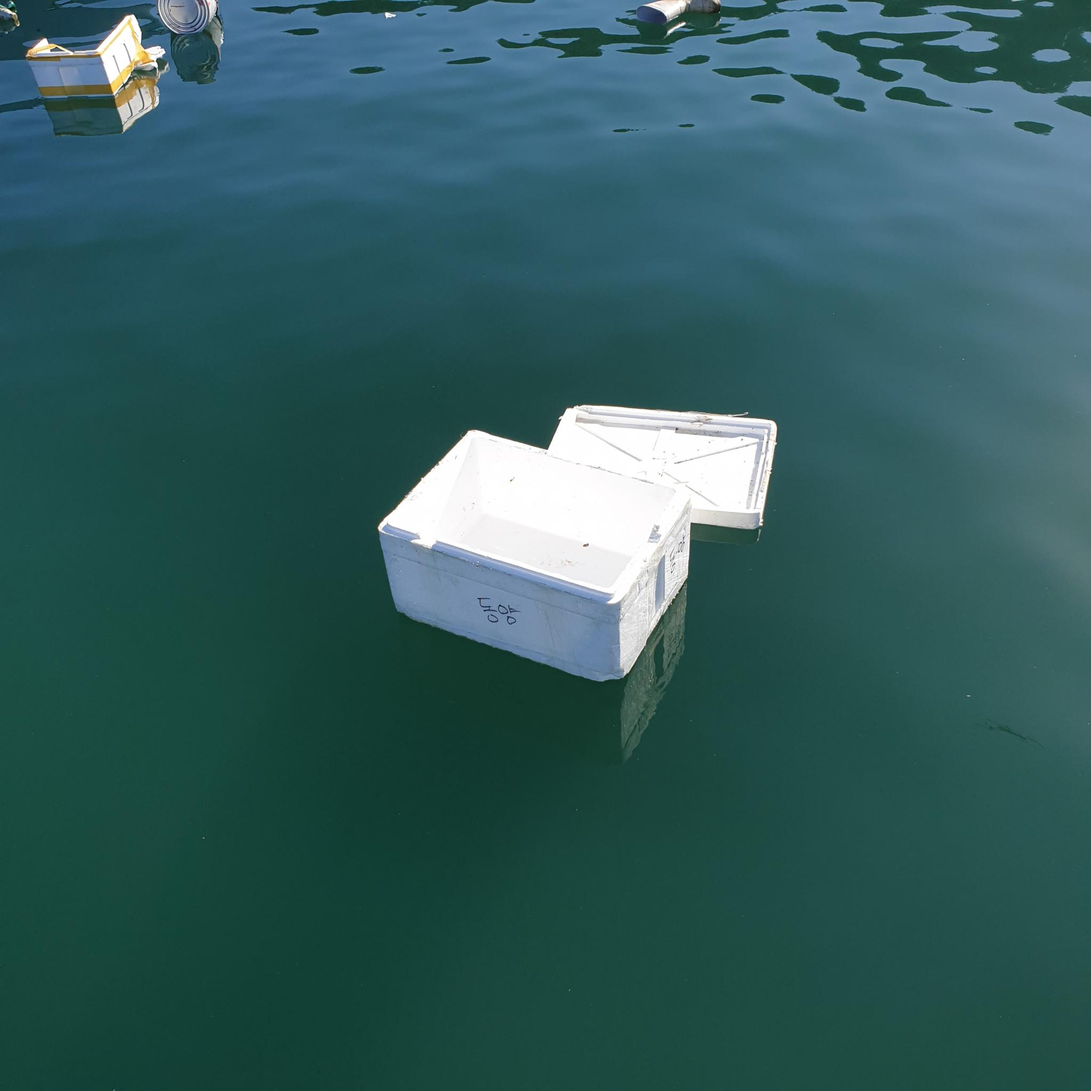sampah_terapung: (378, 430, 691, 682), (548, 404, 777, 530), (26, 15, 142, 99), (1, 10, 18, 22), (1, 1, 16, 10)
